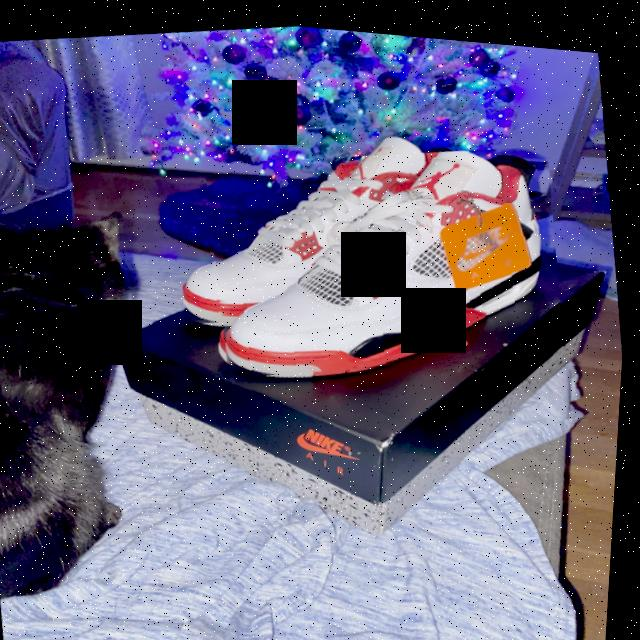shoe: (196, 112, 578, 398), (109, 125, 528, 354)
